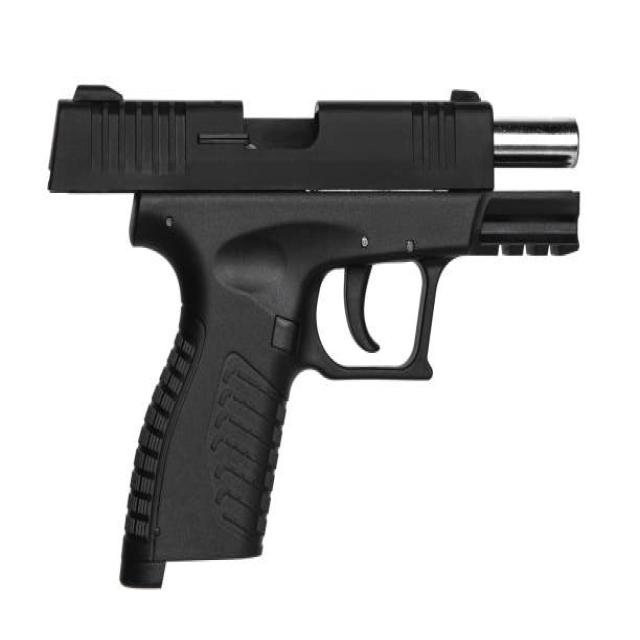pistol: (40, 71, 588, 603)
